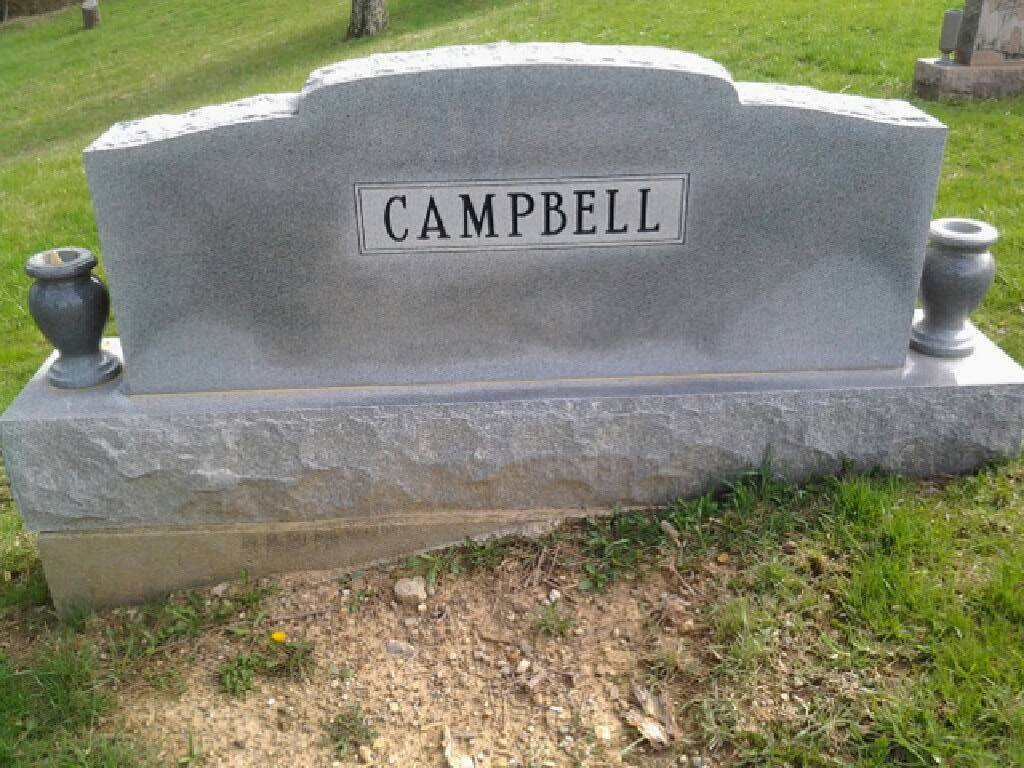upright: (3, 44, 1021, 519)
